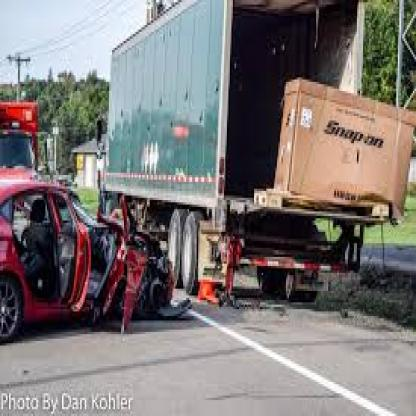accident: (1, 110, 196, 359)
